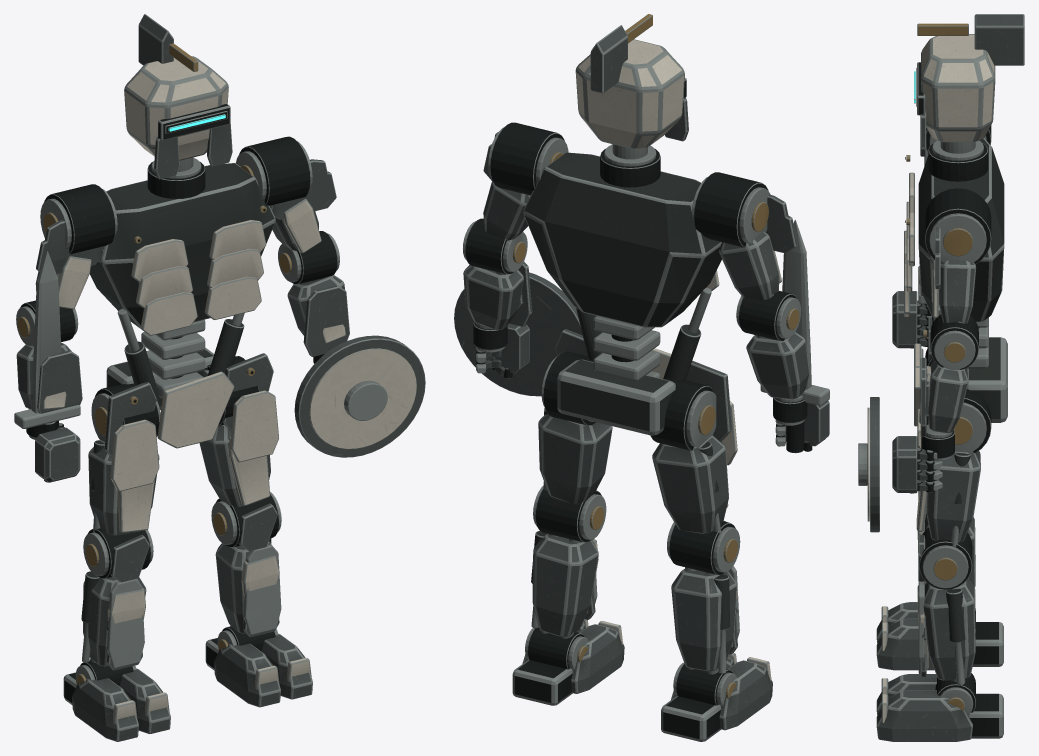
File: speed-t2-legion.glb
The picture shows the model from 3 angles, left to right: view 1: azimuth 30°, elevation 25°; view 2: azimuth 150°, elevation 25°; view 3: azimuth 270°, elevation 25°; orthographic projection. The views are drawn at different scales.
Parts seen in each view (by area): view 1: chest__metal, shieldL__clay, chest__clay, head__clay, pelvis__metal, pelvis__clay, hipR__clay, hipL__clay, ankleR__clay, ankleL__clay, kneeR__metal, kneeL__clay (+16 smaller); view 2: chest__metal, pelvis__metal, head__clay, hipR__clay, kneeL__clay, shieldL__clay, hipL__clay, kneeR__clay, shoulderR__metal, shoulderR__clay, kneeR__metal, ankleL__metal (+17 smaller); view 3: head__clay, chest__metal, ankleL__clay, pelvis__metal, shoulderL__metal, kneeL__metal, kneeL__clay, hipL__clay, elbowL__clay, ankleR__clay, shoulderL__clay, ankleL__metal (+13 smaller).
Part boxes in pixels (x1,y1,x2,y2): chest__metal: (90, 157, 275, 328); shieldL__clay: (294, 335, 425, 457); chest__clay: (131, 220, 266, 335); head__clay: (124, 14, 232, 179); pelvis__metal: (91, 308, 259, 441); pelvis__clay: (104, 353, 273, 457); hipR__clay: (88, 419, 159, 535); hipL__clay: (199, 390, 278, 506); ankleR__clay: (72, 668, 170, 741); ankleL__clay: (214, 634, 312, 707); kneeR__metal: (81, 528, 153, 668); kneeL__clay: (215, 503, 279, 637); chest__metal: (523, 144, 721, 327); pelvis__metal: (541, 287, 716, 450); head__clay: (575, 25, 688, 148); hipR__clay: (652, 400, 737, 533); kneeL__clay: (532, 534, 598, 636); shieldL__clay: (454, 272, 582, 396); hipL__clay: (538, 414, 612, 503); kneeR__clay: (671, 520, 737, 671); shoulderR__metal: (692, 172, 773, 296); shoulderR__clay: (719, 194, 797, 299); kneeR__metal: (667, 521, 740, 674); ankleL__metal: (512, 628, 588, 705); head__clay: (920, 14, 1024, 156); chest__metal: (905, 138, 1004, 321); ankleL__clay: (876, 674, 972, 741); pelvis__metal: (922, 305, 1007, 453); shoulderL__metal: (925, 188, 991, 323); kneeL__metal: (918, 527, 972, 685); kneeL__clay: (917, 534, 975, 680); hipL__clay: (916, 409, 980, 542); elbowL__clay: (919, 357, 968, 437); ankleR__clay: (876, 602, 934, 670); shoulderL__clay: (932, 227, 976, 323); ankleL__metal: (935, 673, 1003, 738).
Size of the model in its own units: 2.73 by 4.51 by 1.
Materials: 11 (10 with a texture image).
